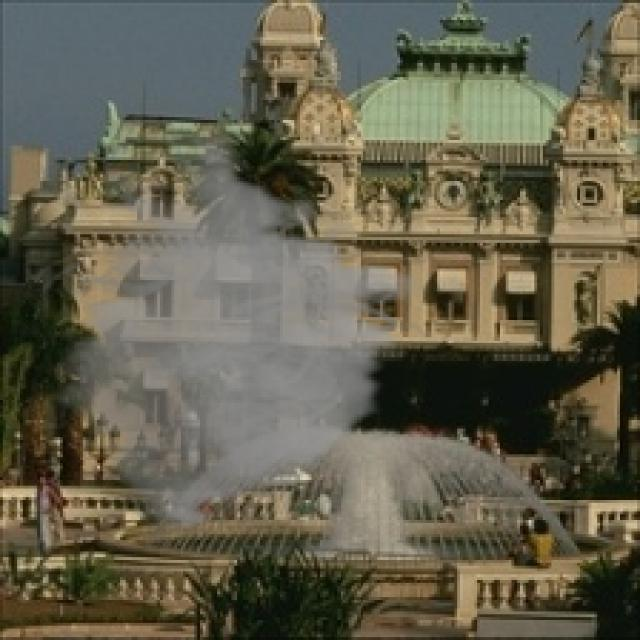smoke: (20, 134, 434, 532)
